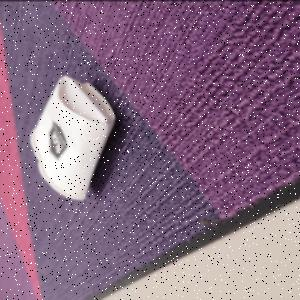Cup: (30, 75, 118, 201)
